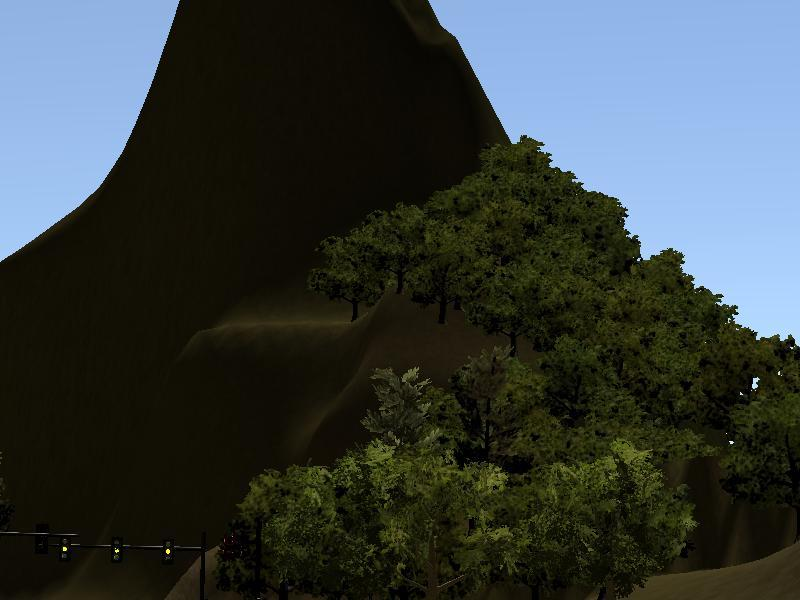Yellow: (110, 537, 123, 564), (162, 538, 174, 566), (60, 536, 70, 562)
